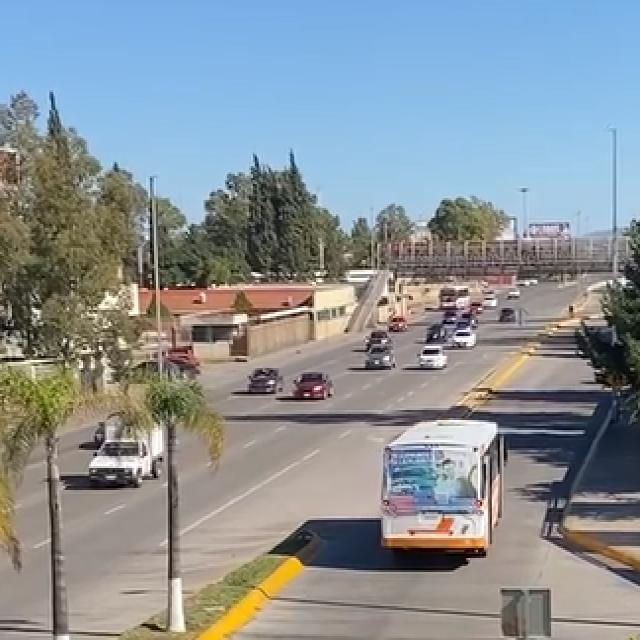Auto: (91, 417, 164, 486), (245, 367, 287, 396), (293, 372, 330, 403), (419, 346, 448, 368)
Autobus: (381, 418, 508, 559)
